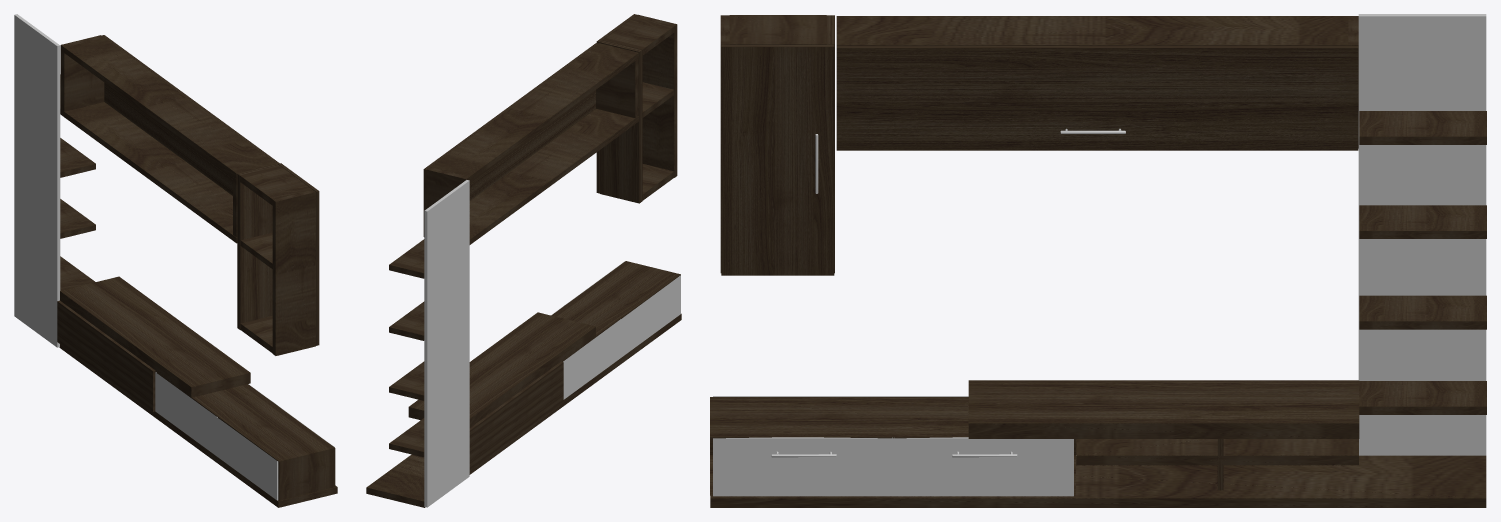
The model's file is Furniture_2.FBX.
The picture shows the model from 3 angles, left to right: view 1: azimuth 30°, elevation 25°; view 2: azimuth 150°, elevation 25°; view 3: azimuth 270°, elevation 25°; orthographic projection. The views are drawn at different scales.
Visible parts, largest first — view 1: polySurface242, polySurface22, polySurface243, polySurface239, polySurface238; view 2: polySurface242, polySurface22, polySurface243, polySurface239; view 3: polySurface242, polySurface22, polySurface238, polySurface243, polySurface239.
Part boxes in pixels (x1,y1,x2,y2): polySurface242: (14, 14, 337, 507); polySurface22: (102, 35, 279, 195); polySurface243: (216, 403, 334, 500); polySurface239: (155, 372, 273, 455); polySurface238: (278, 163, 319, 345); polySurface242: (366, 14, 681, 507); polySurface22: (423, 43, 598, 236); polySurface243: (565, 261, 680, 357); polySurface239: (551, 305, 621, 399); polySurface242: (710, 14, 1486, 507); polySurface22: (836, 45, 1358, 150); polySurface238: (721, 44, 834, 275); polySurface243: (713, 396, 893, 496); polySurface239: (893, 396, 1073, 496).
Size of the model in its own units: 70.3 by 313 by 488.
